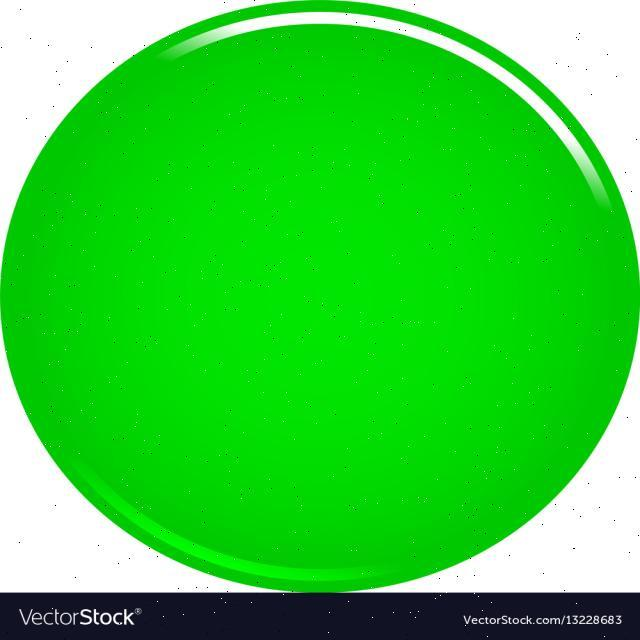Circle: (0, 0, 640, 594)
